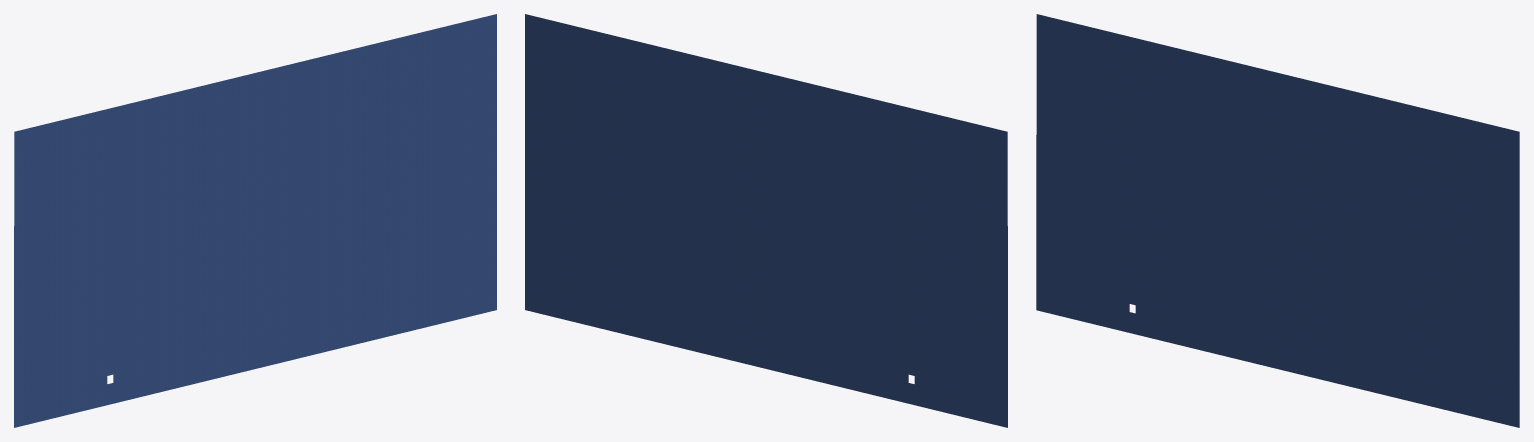
The model's file is floor_1.obj.
3 views of the same model, side by side, from view 1: azimuth 30°, elevation 25°; view 2: azimuth 150°, elevation 25°; view 3: azimuth 330°, elevation 25° (orthographic).
Parts seen in each view (by area): view 1: floor_1; view 2: floor_1; view 3: floor_1.
Part boxes in pixels (x1=…): floor_1: x1=14, y1=14, x2=496, y2=427; floor_1: x1=525, y1=14, x2=1007, y2=427; floor_1: x1=1036, y1=14, x2=1519, y2=427.
Bounding box in the file's own units: 144 × 84.54 × 0.1.
